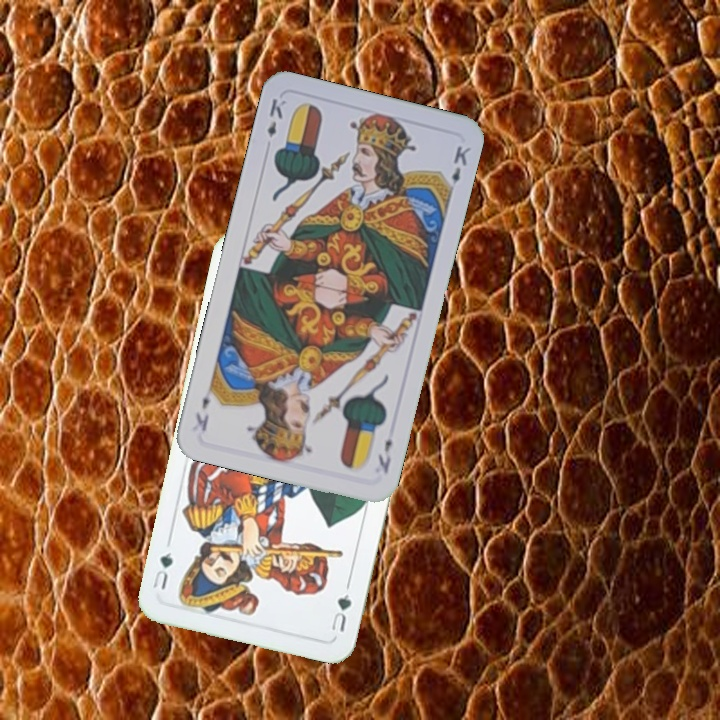EK: (263, 94, 289, 140), (374, 435, 395, 476)
GU: (327, 580, 354, 634)
